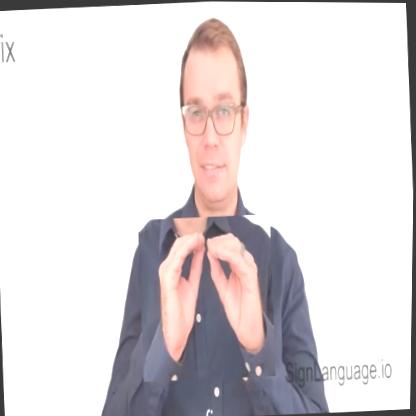Fix: (136, 212, 278, 382)
